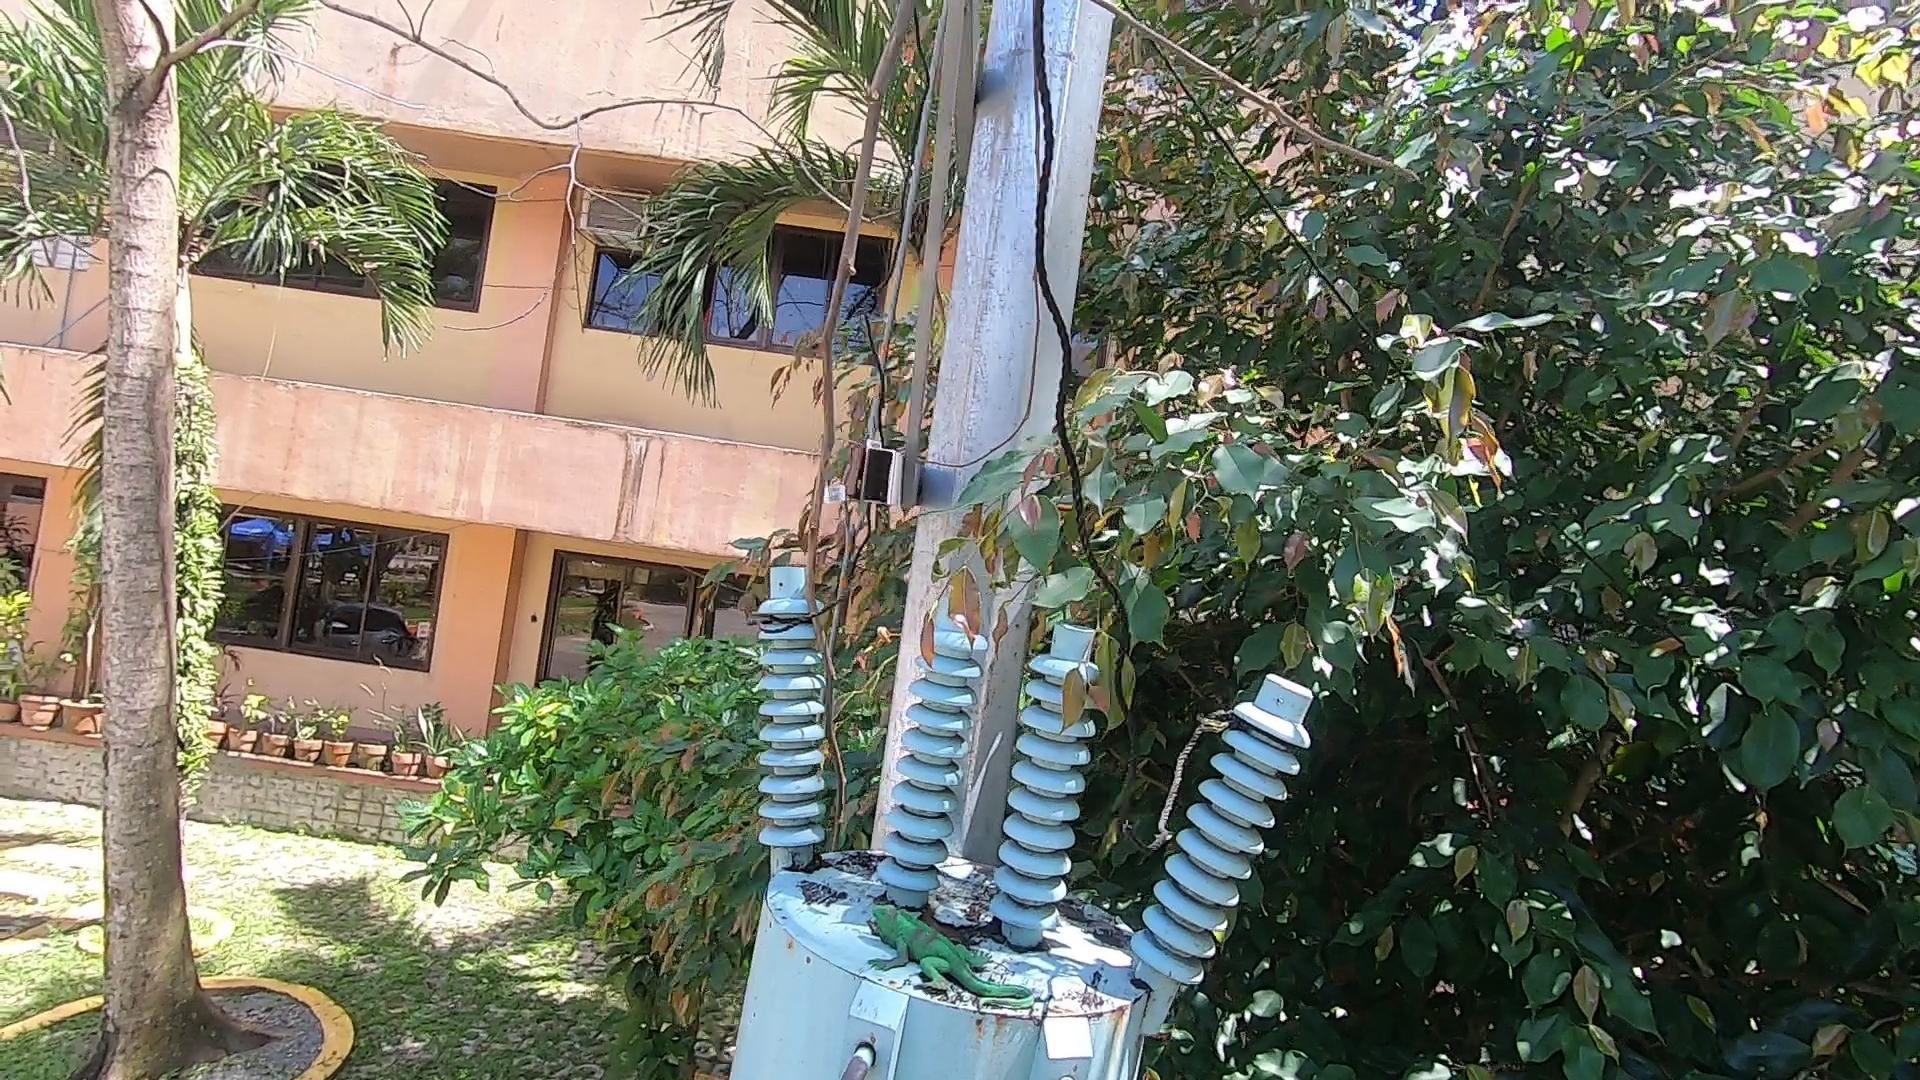branch with leaves: (897, 455, 1197, 737)
leaf: (1065, 891, 1138, 955), (916, 898, 1006, 943), (796, 851, 840, 876)
tree branch: (800, 5, 1425, 851)
